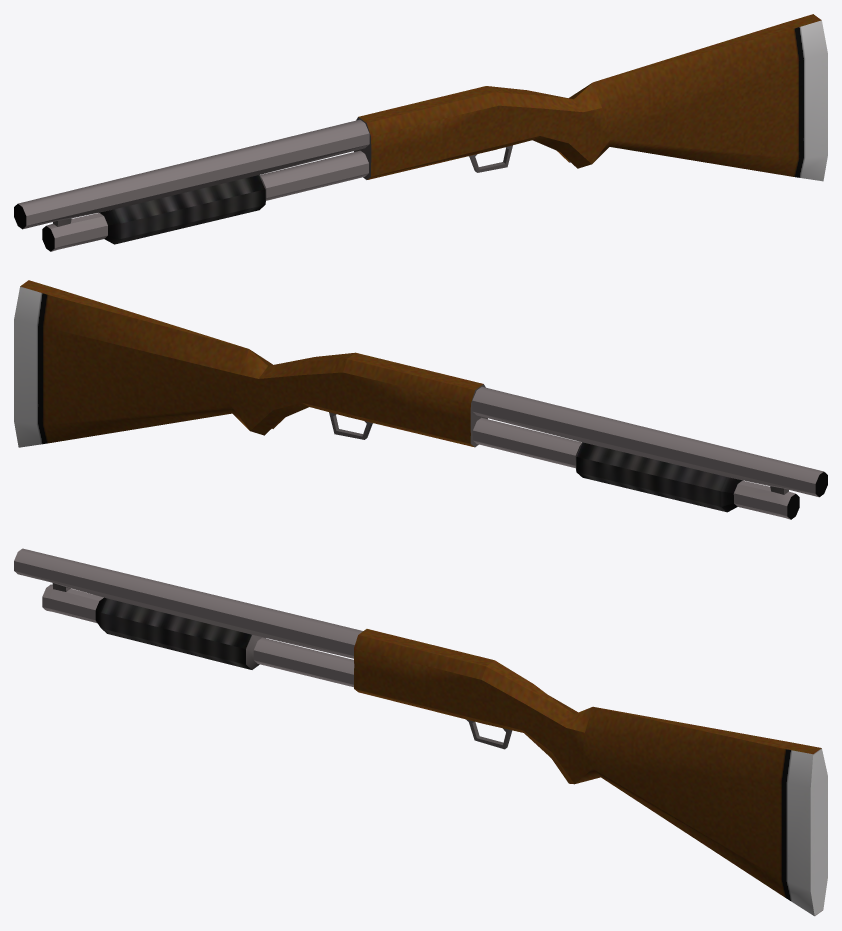
The model's file is Gun.fbx.
3 views of the same model, one above another, from view 1: azimuth 30°, elevation 25°; view 2: azimuth 150°, elevation 25°; view 3: azimuth 330°, elevation 25° (orthographic).
Parts seen in each view (by area): view 1: gun; view 2: gun; view 3: gun.
Part boxes in pixels (x1,y1,x2,y2): gun: (14,14,827,251); gun: (14,280,827,519); gun: (14,548,827,916).
Bounding box in the file's own units: 72.8 × 14.73 × 3.1.
